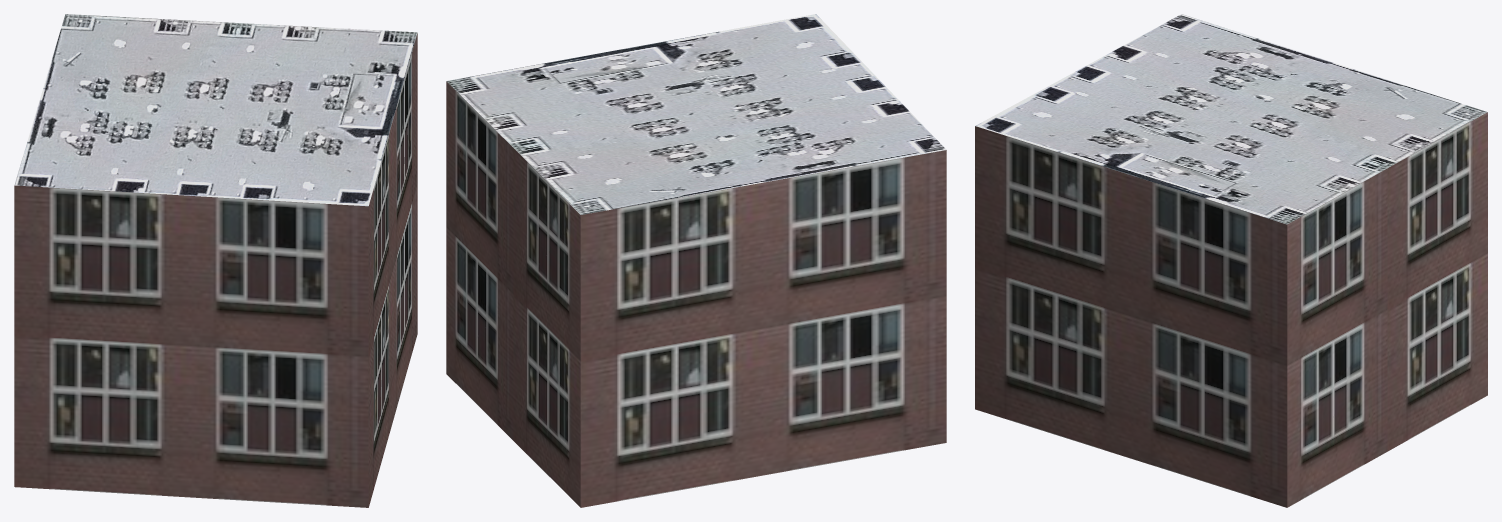
File: ResTex__1090.fbx
3 renders of one model, left to right at view 1: azimuth 30°, elevation 25°; view 2: azimuth 150°, elevation 25°; view 3: azimuth 270°, elevation 25°, orthographic. The views are drawn at different scales.
Parts seen in each view (by area): view 1: CityEngineMaterial_12_m, CityEngineMaterial_8_m; view 2: CityEngineMaterial_12_m, CityEngineMaterial_8_m; view 3: CityEngineMaterial_12_m, CityEngineMaterial_8_m.
Boxes of the visible parts, bbox=[...] form: CityEngineMaterial_12_m: bbox=[14, 33, 417, 507]; CityEngineMaterial_8_m: bbox=[14, 14, 417, 206]; CityEngineMaterial_12_m: bbox=[446, 81, 946, 507]; CityEngineMaterial_8_m: bbox=[446, 14, 946, 214]; CityEngineMaterial_12_m: bbox=[975, 112, 1487, 507]; CityEngineMaterial_8_m: bbox=[975, 14, 1487, 224].
Size of the model in its own units: 9.56 by 6 by 9.84.
2 materials, 2 textured.
